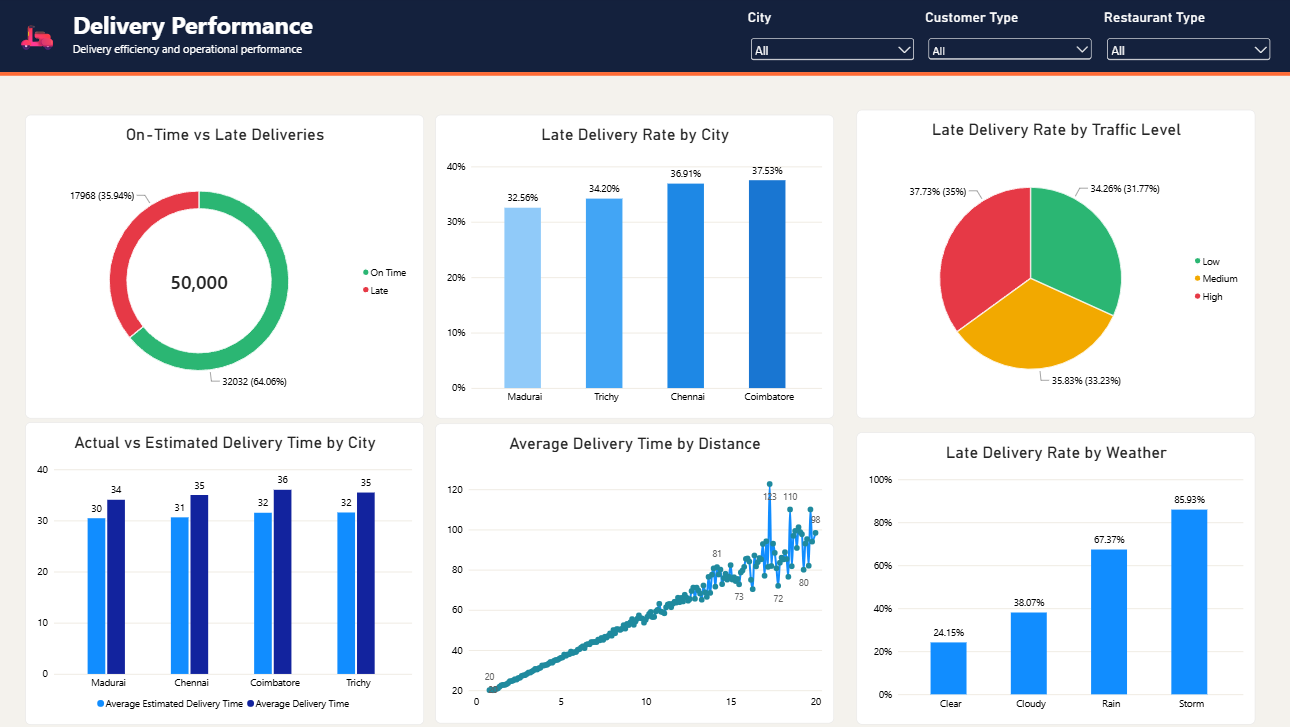

Layout of this report page (visuals, bound fields, positions):
{"tool":"powerbi","page":{"name":"Delivery Performance","canvas":[1920,1080],"ordinal":2},"visuals":[{"type":"clusteredColumnChart","title":"Actual vs Estimated Delivery Time by City","fields":{"Category":["food_delivery_orders_cleaned.city"],"Y":["food_delivery_orders_cleaned.Average Estimated Delivery Time","food_delivery_orders_cleaned.Average Delivery Time"]},"box":[46,627.6,587.1,445.4],"z":0},{"type":"clusteredColumnChart","title":"Late Delivery Rate by City","fields":{"Category":["food_delivery_orders_cleaned.city"],"Y":["food_delivery_orders_cleaned.Late Delivery Rate"]},"box":[649.7,174.8,587.1,447.2],"z":1000},{"type":"pieChart","title":"Late Delivery Rate by Traffic Level","fields":{"Category":["food_delivery_orders_cleaned.traffic_level"],"Y":["food_delivery_orders_cleaned.Late Delivery Rate"]},"box":[1269.9,167.5,587.1,454.6],"z":2000},{"type":"clusteredColumnChart","title":"Late Delivery Rate by Weather","fields":{"Category":["food_delivery_orders_cleaned.weather"],"Y":["food_delivery_orders_cleaned.Late Delivery Rate"]},"box":[1269.9,642.3,587.1,430.7],"z":3000},{"type":"lineChart","title":"Average Delivery Time by Distance","fields":{"Category":["food_delivery_orders_cleaned.distance_km"],"Y":["food_delivery_orders_cleaned.Average Actual Delivery Time"]},"box":[649.7,629.5,587.1,441.7],"z":4000},{"type":"donutChart","title":"On-Time vs Late Deliveries","fields":{"Category":["food_delivery_orders_cleaned.Delivery Status"],"Y":["food_delivery_orders_cleaned.Total_Orders"]},"box":[46,174.8,587.1,447.2],"z":5000},{"type":"textbox","box":[0,0,1920,112],"z":6000},{"type":"textbox","box":[0,112.3,1920,5],"z":7000},{"type":"textbox","box":[29.4,9.2,68.1,90.2],"z":8000},{"type":"textbox","box":[116,66,1000,34],"z":9000},{"type":"textbox","box":[116,18,1000,52],"z":10000},{"type":"slicer","title":"City","fields":{"Values":["food_delivery_orders_cleaned.city"]},"box":[1110,18,250,80],"z":11000},{"type":"slicer","title":"Customer Type","fields":{"Values":["food_delivery_orders_cleaned.customer_type"]},"box":[1372,18,250,80],"z":12000},{"type":"slicer","title":"Restaurant Type","fields":{"Values":["food_delivery_orders_cleaned.restaurant_type"]},"box":[1634,18,250,80],"z":13000}]}

Visuals, with their boxes in screenshot pixels (x1, y1, x2, y2), scaled from the page's 1920x1080 canvas onto the 1290x727 screenshot:
"Actual vs Estimated Delivery Time by City" clusteredColumnChart: crop(31, 422, 425, 722)
"Late Delivery Rate by City" clusteredColumnChart: crop(437, 118, 831, 419)
"Late Delivery Rate by Traffic Level" pieChart: crop(853, 113, 1248, 419)
"Late Delivery Rate by Weather" clusteredColumnChart: crop(853, 432, 1248, 722)
"Average Delivery Time by Distance" lineChart: crop(437, 424, 831, 721)
"On-Time vs Late Deliveries" donutChart: crop(31, 118, 425, 419)
textbox: crop(0, 0, 1289, 75)
textbox: crop(0, 76, 1289, 79)
textbox: crop(20, 6, 66, 67)
textbox: crop(78, 44, 750, 67)
textbox: crop(78, 12, 750, 47)
"City" slicer: crop(746, 12, 914, 66)
"Customer Type" slicer: crop(922, 12, 1090, 66)
"Restaurant Type" slicer: crop(1098, 12, 1266, 66)
